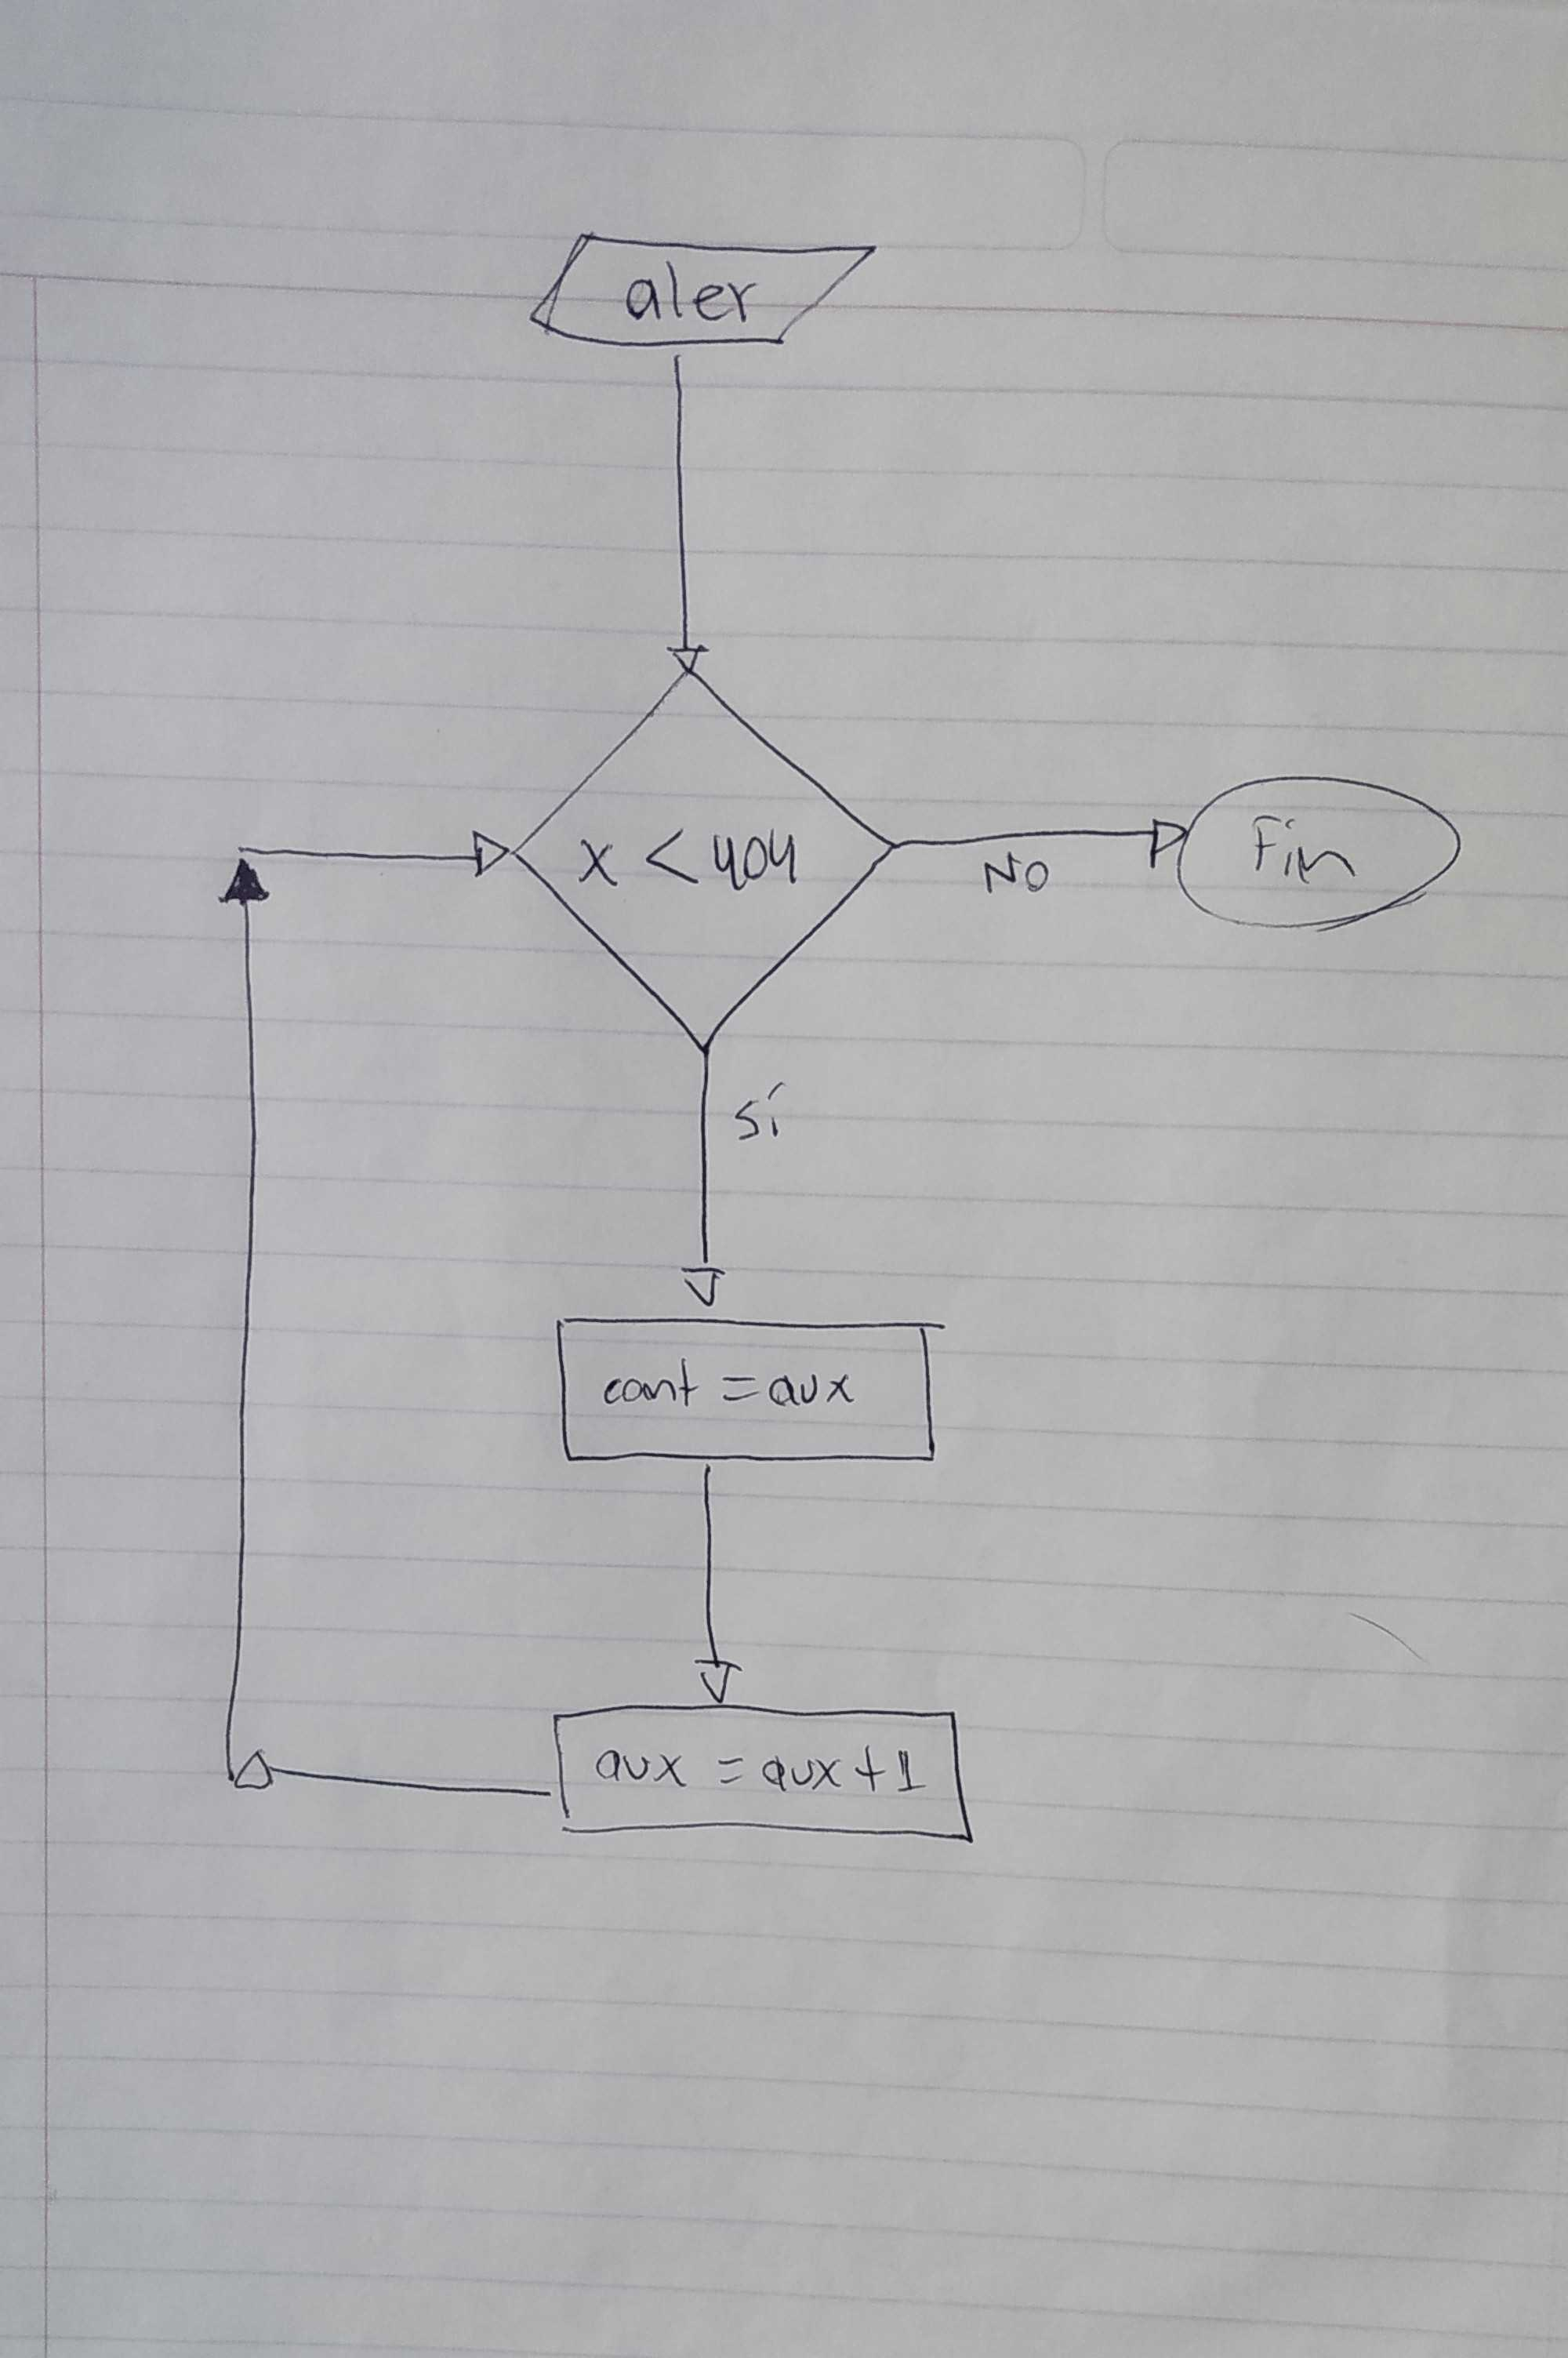arrow_line_down: (635, 347, 732, 677), (668, 1047, 758, 1318), (679, 1455, 749, 1719)
arrow_line_left: (228, 1735, 560, 1826)
arrow_line_right: (889, 797, 1192, 886), (235, 814, 520, 882)
arrow_line_up: (196, 851, 289, 1786)
decision: (507, 663, 905, 1059)
process: (534, 1688, 1006, 1868), (536, 1297, 961, 1481)
scan: (520, 219, 891, 366)
start_end: (1172, 754, 1482, 954)
